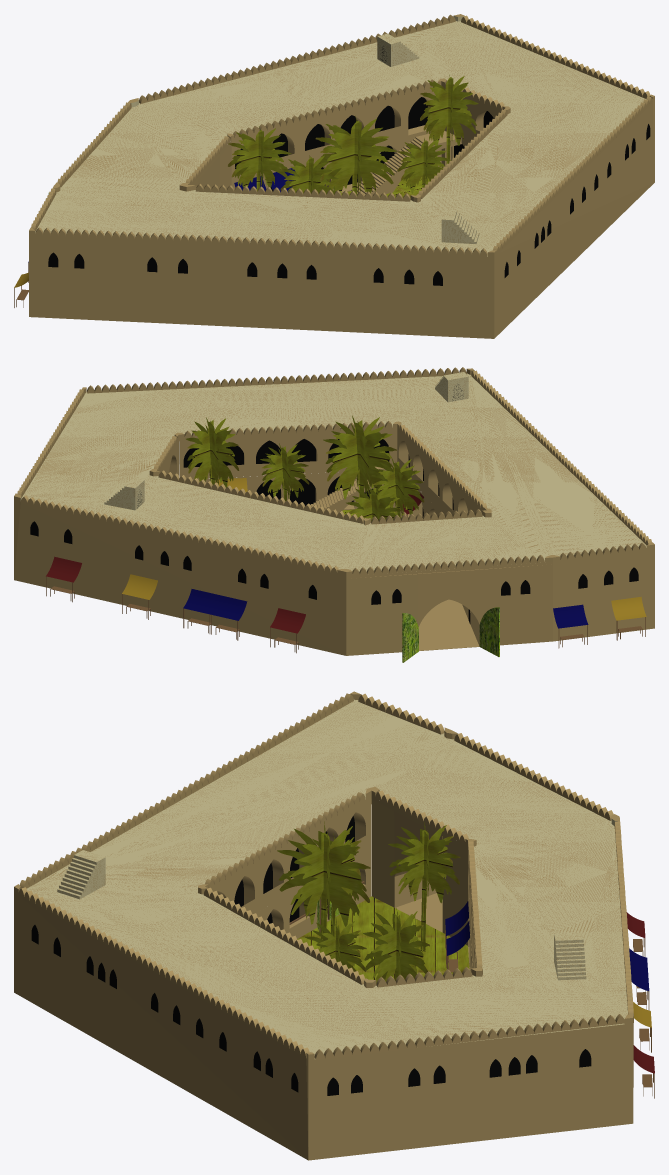
File: Birscha_Karawanserei.dae
The picture shows the model from 3 angles, top to bottom: view 1: azimuth 30°, elevation 25°; view 2: azimuth 150°, elevation 25°; view 3: azimuth 270°, elevation 25°; orthographic projection. The views are drawn at different scales.
Visible parts, largest first — view 1: Model, Component_3 (×5), Component_5 (×3), Component_8, Component_6, Spitzbogen4, Spitzbogen3; view 2: Model, Component_3 (×5), Component_5 (×4), Component_1 (×3), Component_2 (×2), Component_10 (×2), Component_8, Component_4, Component_7, Spitzbogen2; view 3: Model, Component_3 (×4), Component_5 (×3), Component_12.
Part boxes in pixels (box(x1,y1,x2,y2)): Model: box(29, 14, 654, 338); Component_3 (×5): box(228, 75, 478, 195); Component_5 (×3): box(231, 97, 500, 181); Component_8: box(351, 131, 461, 196); Component_6: box(371, 90, 435, 144); Spitzbogen4: box(408, 97, 431, 135); Spitzbogen3: box(375, 105, 400, 131); Model: box(14, 368, 654, 662); Component_3 (×5): box(186, 415, 424, 521); Component_5 (×4): box(180, 430, 456, 515); Component_1 (×3): box(183, 589, 588, 628); Component_2 (×2): box(122, 574, 646, 620); Component_10 (×2): box(46, 556, 305, 633); Component_8: box(310, 479, 401, 516); Component_4: box(251, 473, 323, 501); Component_7: box(325, 430, 397, 472); Spitzbogen2: box(290, 479, 316, 505); Model: box(14, 691, 633, 1160); Component_3 (×4): box(277, 821, 460, 983); Component_5 (×3): box(212, 798, 371, 914); Component_12: box(260, 888, 315, 938).
Bounding box in the file's own units: 62.59 × 46.44 × 12.77.
